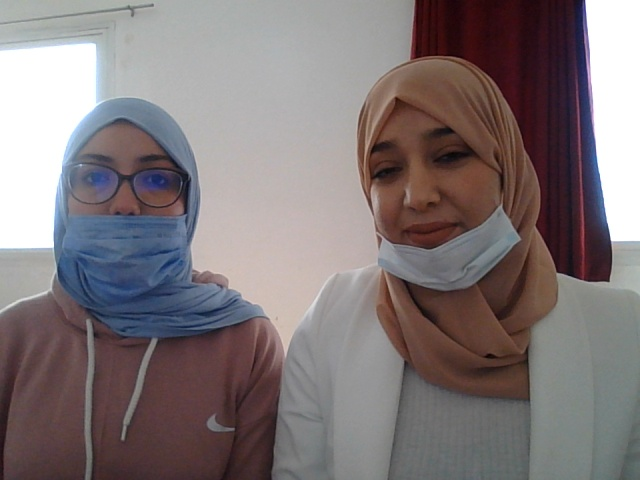mask_weared_incorrect: (336, 61, 563, 326), (51, 94, 209, 302)
